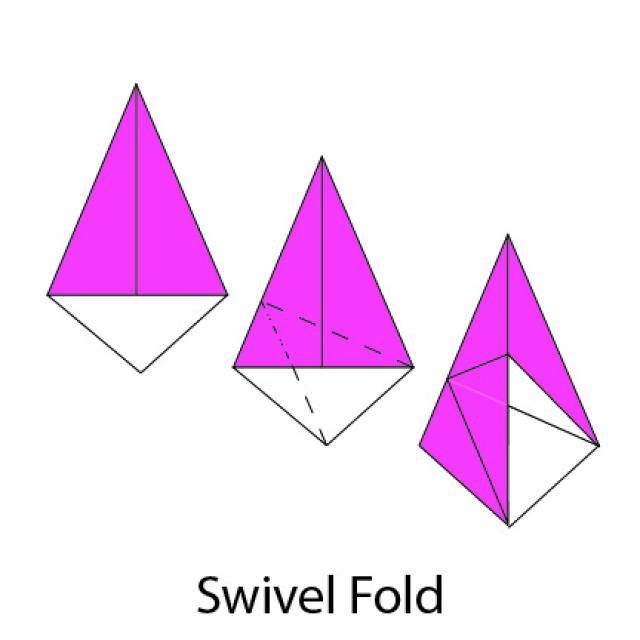fold-line: (260, 294, 419, 377), (255, 294, 334, 447), (446, 374, 511, 413)
